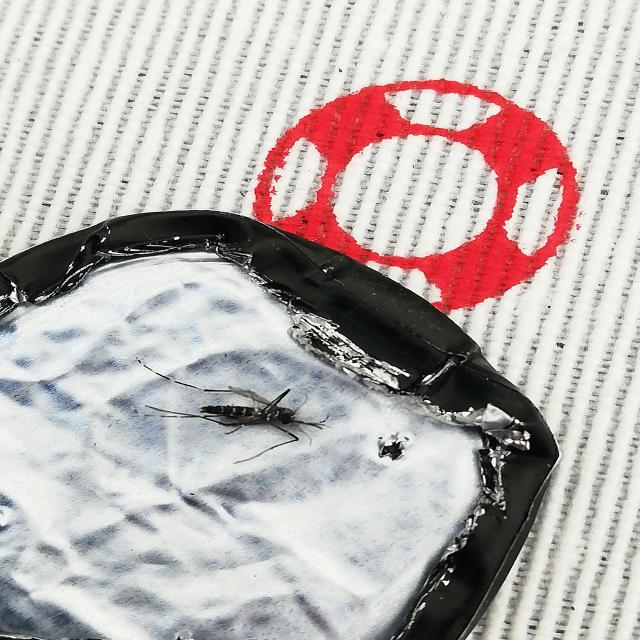albopictus: (118, 351, 338, 465)
